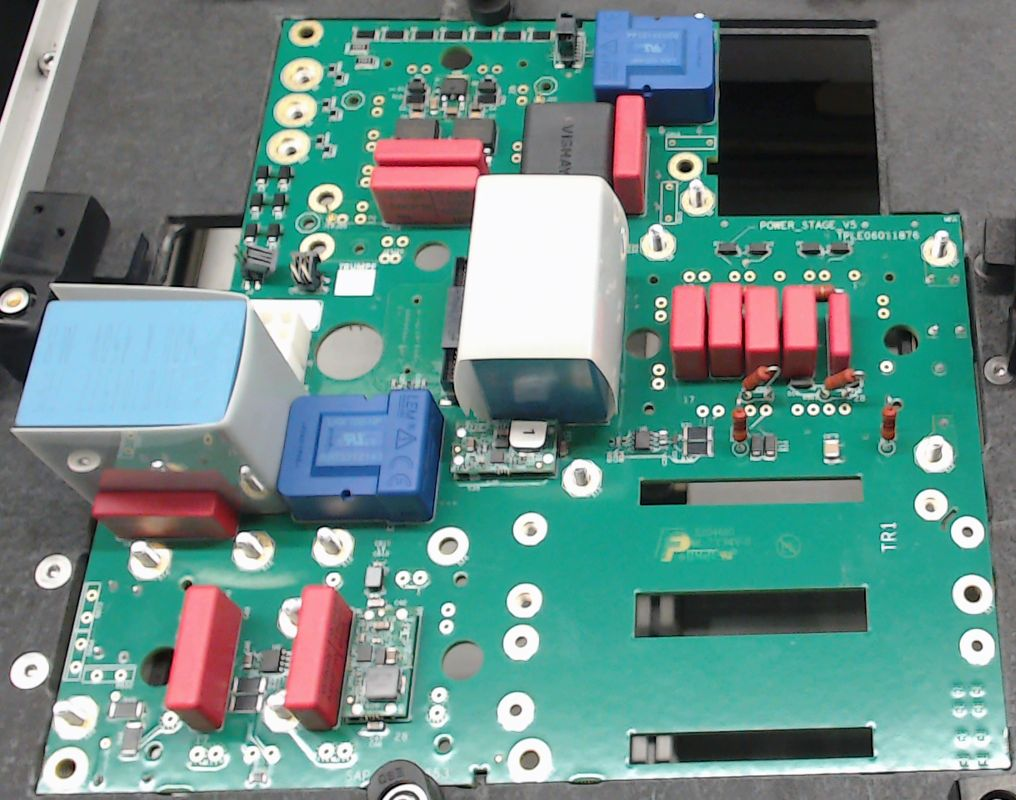comp1: (277, 389, 445, 520), (595, 9, 716, 125)
comp2: (166, 585, 238, 731), (285, 586, 352, 729), (90, 490, 238, 540), (370, 165, 478, 225), (742, 281, 782, 382), (612, 95, 644, 214), (671, 285, 708, 380), (709, 280, 744, 380), (780, 285, 816, 377), (374, 137, 486, 166), (829, 291, 850, 372)
comp3: (523, 100, 614, 177)
comp4: (10, 280, 311, 517), (451, 176, 629, 423)
